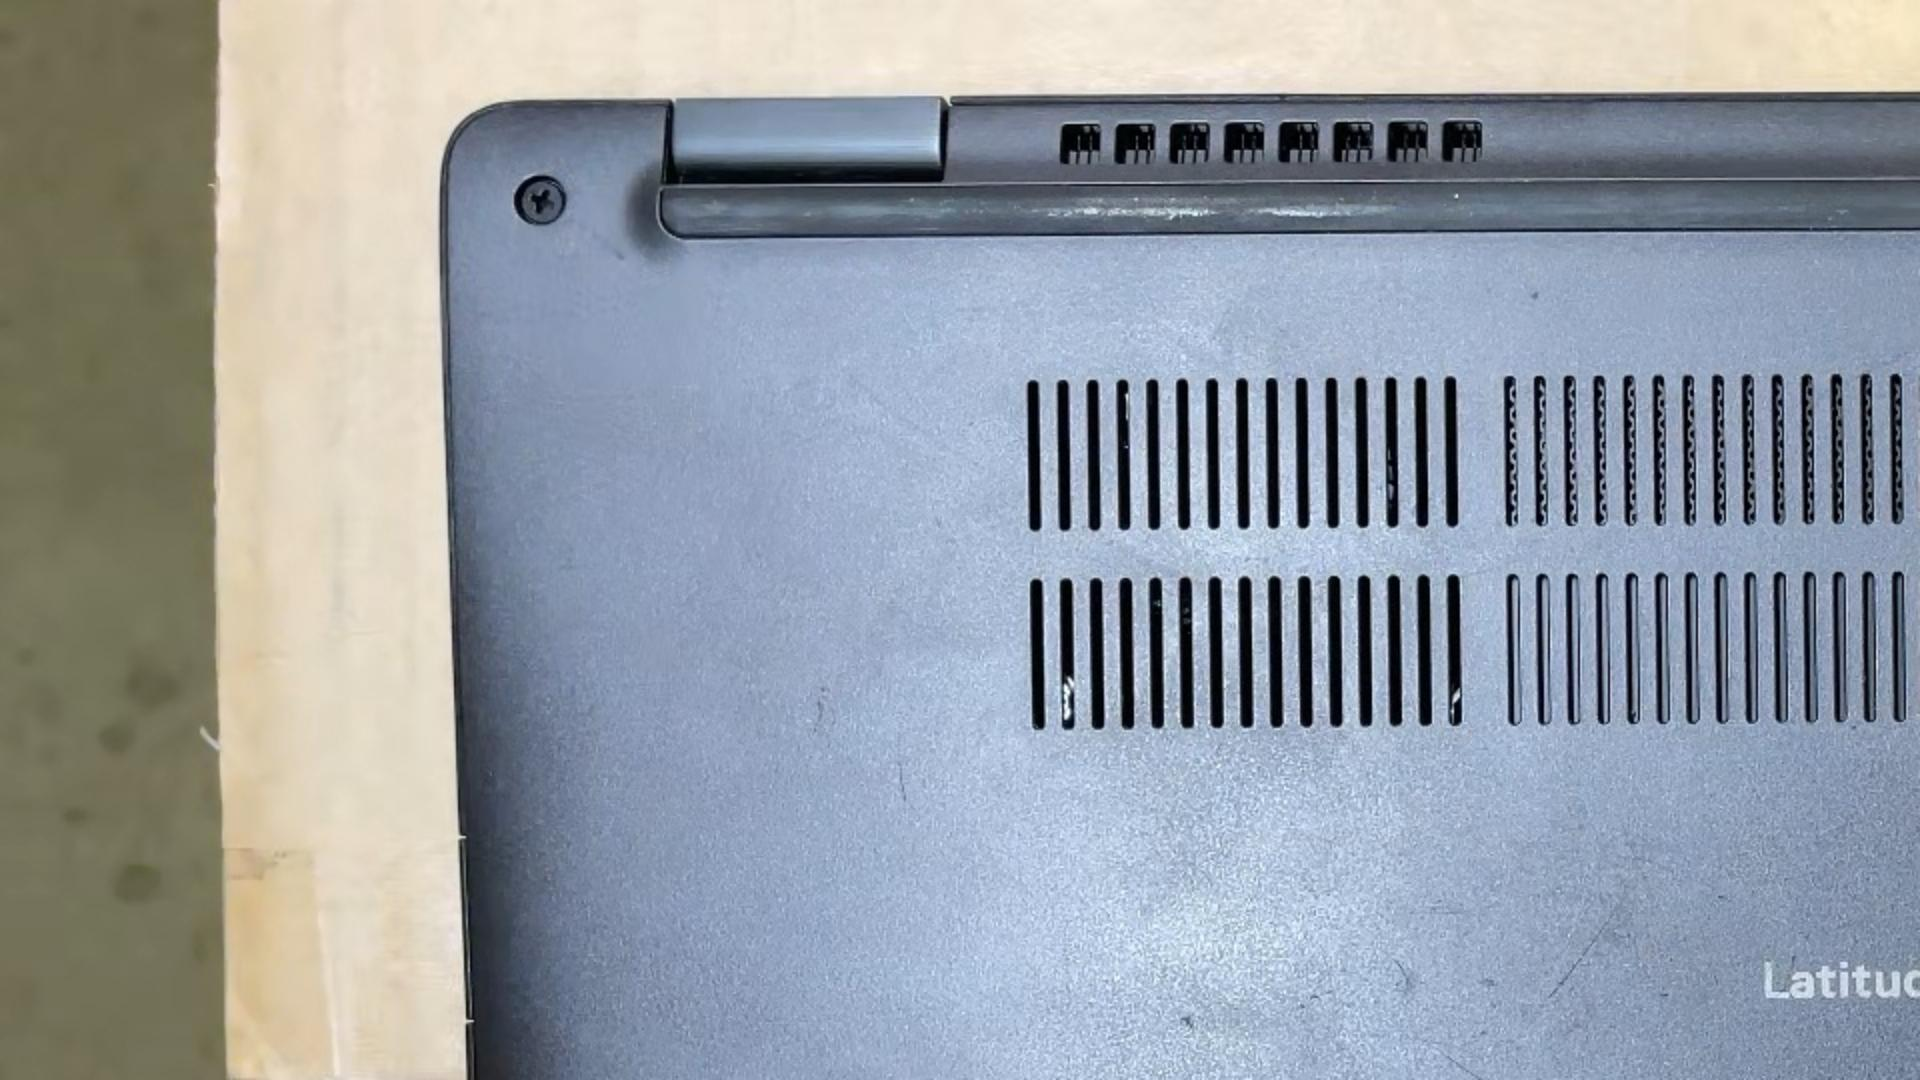chip: (1178, 1013, 1196, 1031)
scratches: (1547, 891, 1629, 998), (1431, 1043, 1486, 1080), (1882, 340, 1920, 367), (810, 686, 829, 735), (897, 731, 910, 803), (1391, 957, 1411, 990), (1780, 956, 1797, 992), (1308, 994, 1320, 1000), (1659, 992, 1669, 997)
